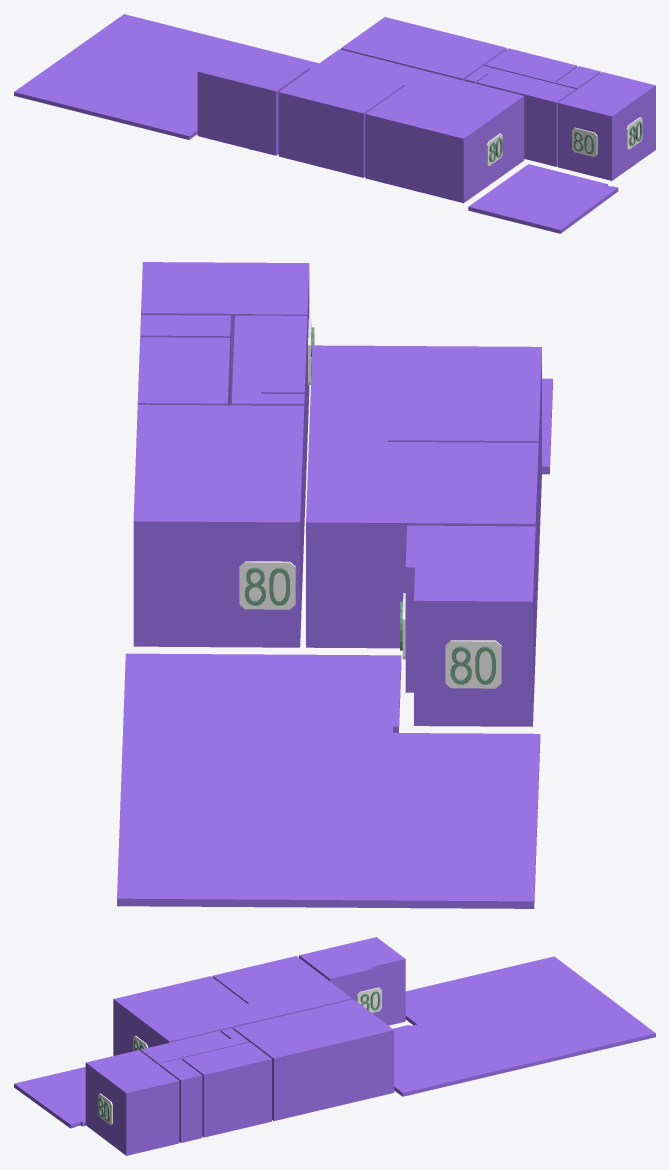
3 views of the same model, one above another, from view 1: azimuth 30°, elevation 25°; view 2: azimuth 150°, elevation 25°; view 3: azimuth 270°, elevation 25° (orthographic). The views are drawn at different scales.
Visible parts, largest first — view 1: g_9, g_4, g_3, g_0, g_2, g_8, g_1, g_5, g_6, g_7, g_12; view 2: g_9, g_1, g_3, g_0, g_4, g_2, g_5, g_6, g_7, g_21, g_24, g_8; view 3: g_9, g_1, g_2, g_4, g_6, g_0, g_3, g_8, g_7, g_5, g_18.
Boxes of the visible parts, <box> form: g_9: <box>14,14,318,139</box>; g_4: <box>365,71,524,203</box>; g_3: <box>278,49,425,177</box>; g_0: <box>197,49,309,155</box>; g_2: <box>558,72,655,180</box>; g_8: <box>468,164,618,233</box>; g_1: <box>341,17,506,80</box>; g_5: <box>464,66,575,166</box>; g_6: <box>484,48,577,83</box>; g_7: <box>555,66,600,90</box>; g_12: <box>572,127,597,157</box>; g_9: <box>117,653,540,908</box>; g_1: <box>133,404,304,647</box>; g_3: <box>306,439,538,648</box>; g_0: <box>405,525,535,726</box>; g_4: <box>309,345,541,562</box>; g_2: <box>141,262,309,432</box>; g_5: <box>231,315,307,525</box>; g_6: <box>137,337,230,405</box>; g_7: <box>140,315,230,405</box>; g_21: <box>239,561,295,609</box>; g_24: <box>445,640,501,688</box>; g_8: <box>542,378,552,474</box>; g_9: <box>393,956,655,1096</box>; g_1: <box>233,999,394,1120</box>; g_2: <box>85,1050,179,1155</box>; g_4: <box>113,976,266,1055</box>; g_6: <box>182,1042,271,1137</box>; g_0: <box>299,937,405,1025</box>; g_3: <box>212,956,352,1019</box>; g_8: <box>14,1067,85,1128</box>; g_7: <box>159,1058,202,1142</box>; g_5: <box>140,1028,249,1064</box>; g_18: <box>356,987,381,1012</box>.
Size of the model in its own units: 17.01 by 2.65 by 23.08.
